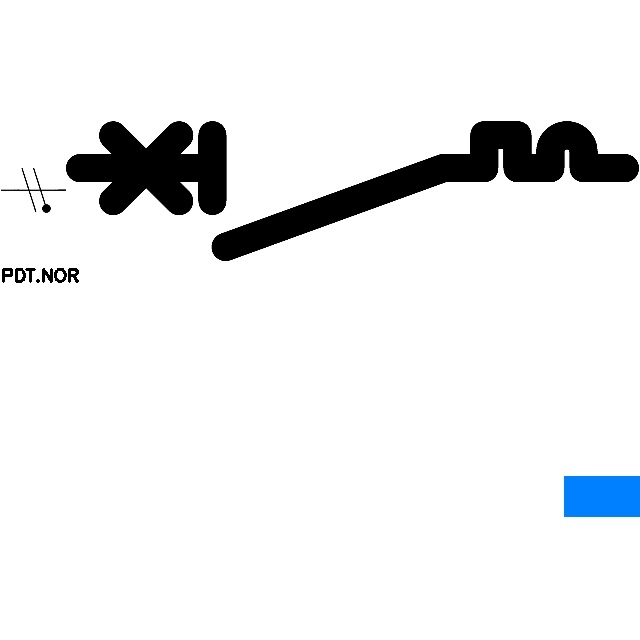interruptor_termomagnetico: (65, 121, 638, 261)
